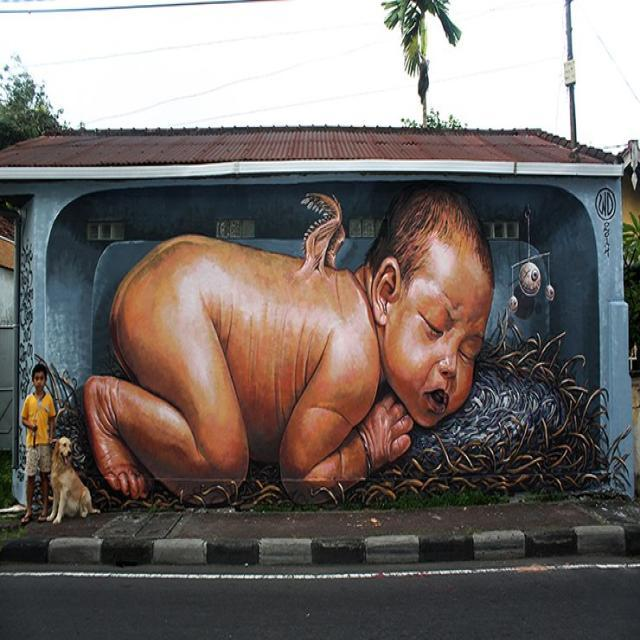-: (78, 186, 633, 493), (18, 237, 36, 406), (594, 188, 619, 260)
